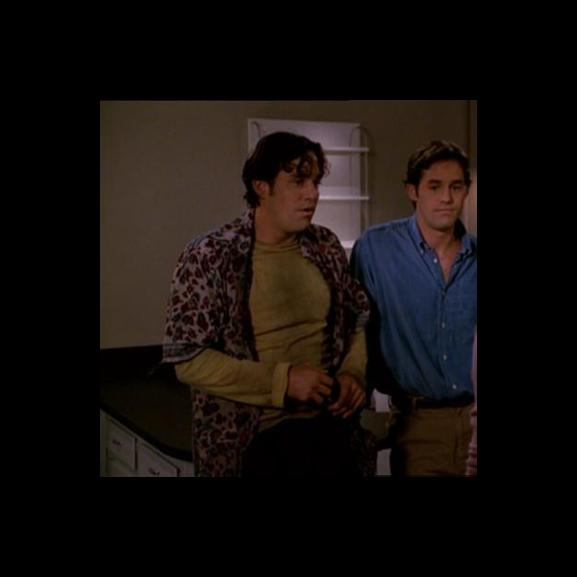hand: (372, 324, 420, 369), (368, 286, 405, 338)
